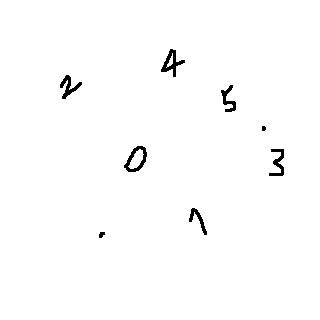.: (88, 222, 112, 245), (257, 122, 272, 140)
0: (122, 136, 152, 176)
1: (184, 200, 215, 247)
2: (54, 68, 92, 103)
3: (264, 147, 298, 182)
4: (156, 46, 188, 85)
5: (215, 81, 247, 119)
